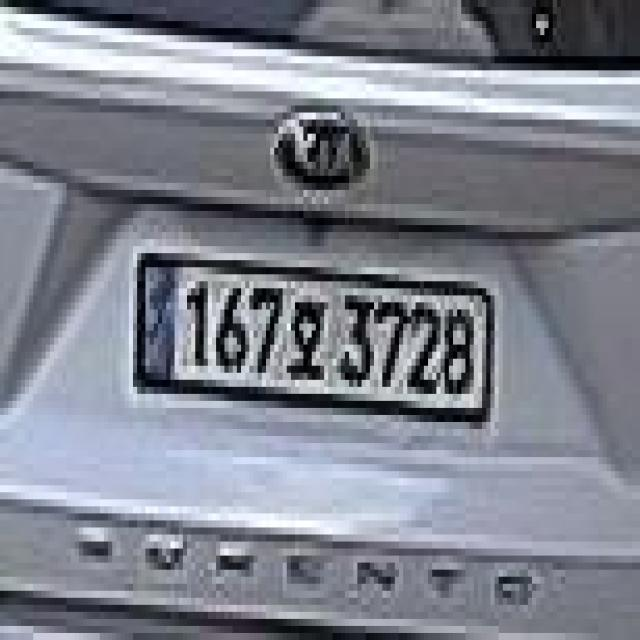illegal_plate: (132, 244, 498, 441)
